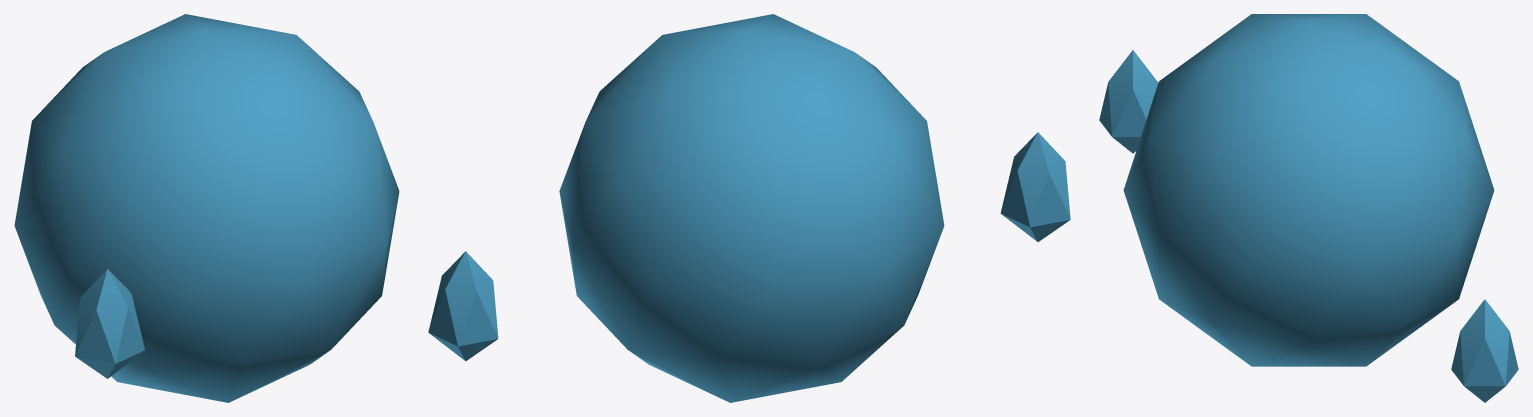
The model's file is liora_weapon.fbx.
3 views of the same model, side by side, from view 1: azimuth 30°, elevation 25°; view 2: azimuth 150°, elevation 25°; view 3: azimuth 270°, elevation 25° (orthographic). The views are drawn at different scales.
Parts seen in each view (by area): view 1: liora_weapon; view 2: liora_weapon; view 3: liora_weapon.
Boxes of the visible parts, bbox=[...] form: liora_weapon: bbox=[14, 14, 399, 402]; liora_weapon: bbox=[428, 14, 1070, 402]; liora_weapon: bbox=[1099, 14, 1518, 402].
Size of the model in its own units: 0.5478 by 0.42 by 0.4751.
